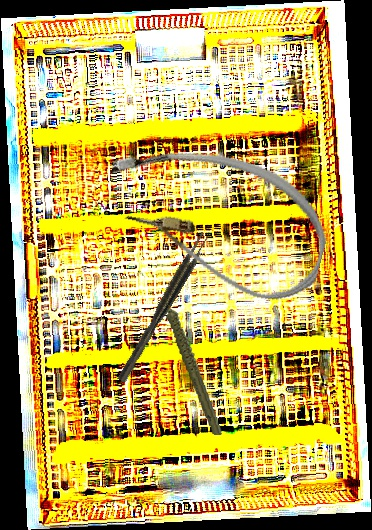Cannula: (89, 127, 341, 313)
Handpiece: (161, 282, 224, 440)
Tissue Forceps: (112, 230, 213, 384)
